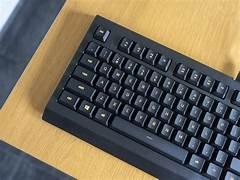keyboard: (41, 13, 239, 179)
